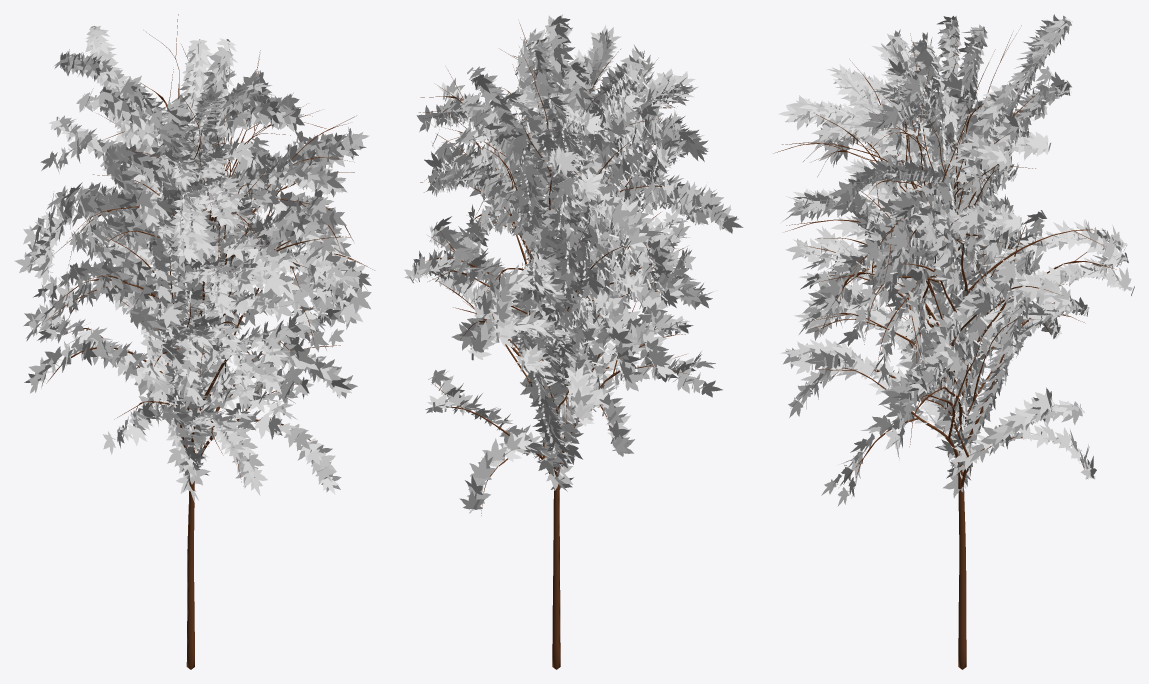
The model's file is GreenMapleTree.fbx.
3 renders of one model, left to right at view 1: azimuth 30°, elevation 25°; view 2: azimuth 150°, elevation 25°; view 3: azimuth 270°, elevation 25°, orthographic.
Visible parts, largest first — view 1: leaves, tree; view 2: leaves, tree; view 3: leaves, tree.
Part boxes in pixels (bbox=[...]): leaves: bbox=[30, 26, 355, 479]; tree: bbox=[45, 14, 374, 669]; leaves: bbox=[409, 19, 726, 513]; tree: bbox=[412, 23, 697, 669]; leaves: bbox=[793, 16, 1134, 491]; tree: bbox=[774, 25, 1116, 669].
Size of the model in its own units: 809 by 1462 by 747.
